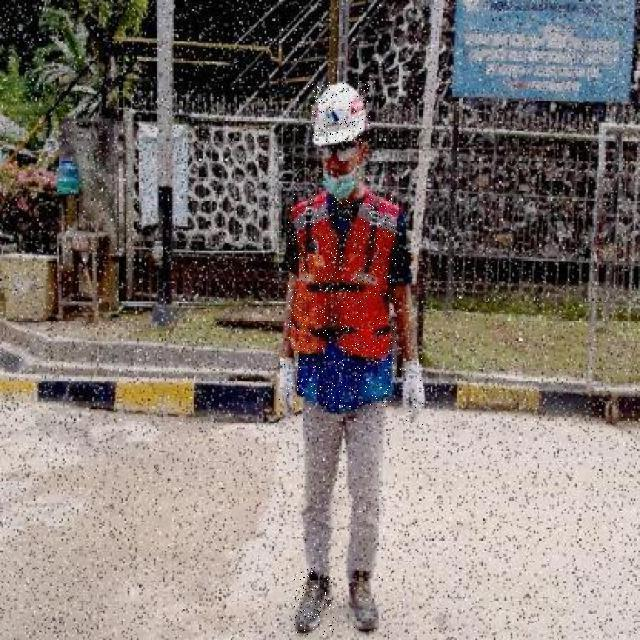helmet: (308, 82, 370, 144)
safety_vest: (288, 194, 397, 409)
